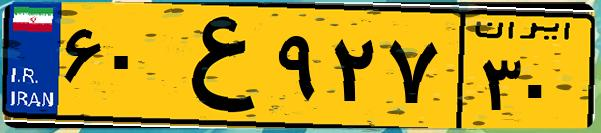0: (525, 38, 570, 115), (110, 28, 158, 98)
2: (330, 28, 385, 110)
3: (475, 38, 525, 113)
6: (57, 26, 110, 100)
7: (385, 28, 445, 110)
9: (270, 28, 330, 110)
ع: (158, 12, 270, 120)
